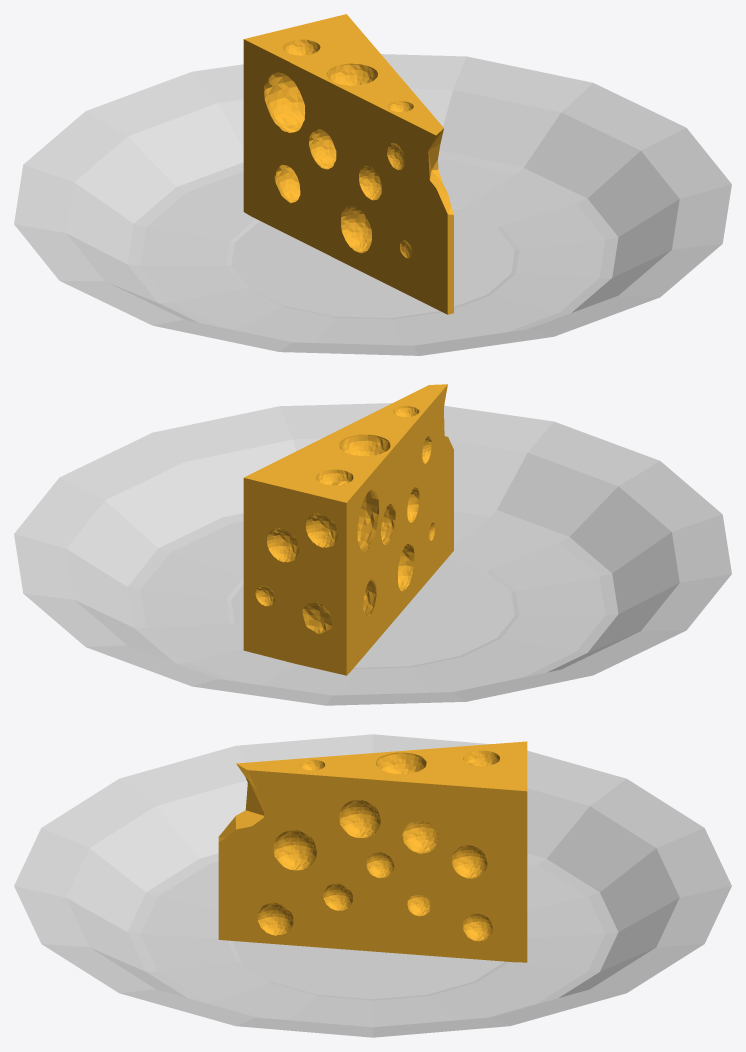
The model's file is uploads_files_3220918_Cheese.dae.
3 renders of one model, top to bottom at view 1: azimuth 30°, elevation 25°; view 2: azimuth 150°, elevation 25°; view 3: azimuth 270°, elevation 25°, orthographic.
Visible parts, largest first — view 1: Circle, Cube; view 2: Circle, Cube; view 3: Circle, Cube.
Boxes of the visible parts, x1,y1,x2,y2 form: Circle: (14, 54, 731, 355); Cube: (243, 14, 453, 314); Circle: (14, 403, 731, 705); Cube: (243, 384, 453, 675); Circle: (14, 734, 731, 1037); Cube: (218, 741, 527, 962).
Bounding box in the file's own units: 6.35 × 6.35 × 1.69.
